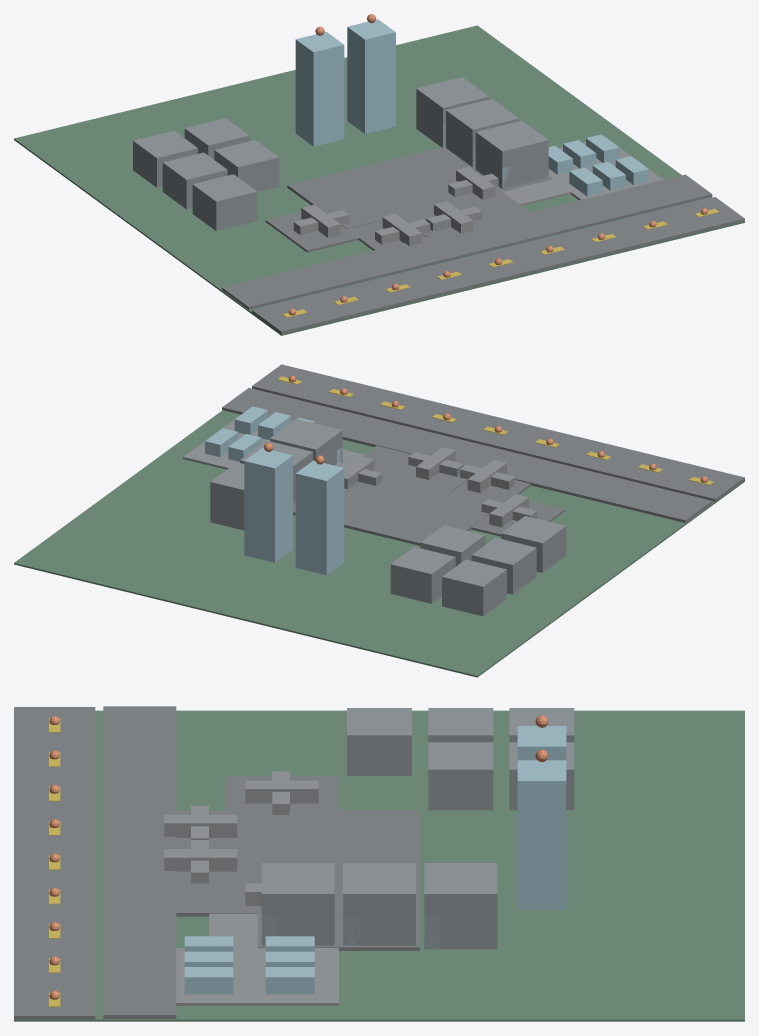
The model's file is stage_22.glb.
3 renders of one model, top to bottom at view 1: azimuth 30°, elevation 25°; view 2: azimuth 150°, elevation 25°; view 3: azimuth 270°, elevation 25°, orthographic. The views are drawn at different scales.
Visible parts, largest first — view 1: geometry_0; view 2: geometry_0; view 3: geometry_0.
Boxes of the visible parts, bbox=[...] form: geometry_0: bbox=[14, 14, 744, 335]; geometry_0: bbox=[14, 364, 744, 677]; geometry_0: bbox=[14, 706, 744, 1021].
Size of the model in its own units: 9 by 2.06 by 9.
